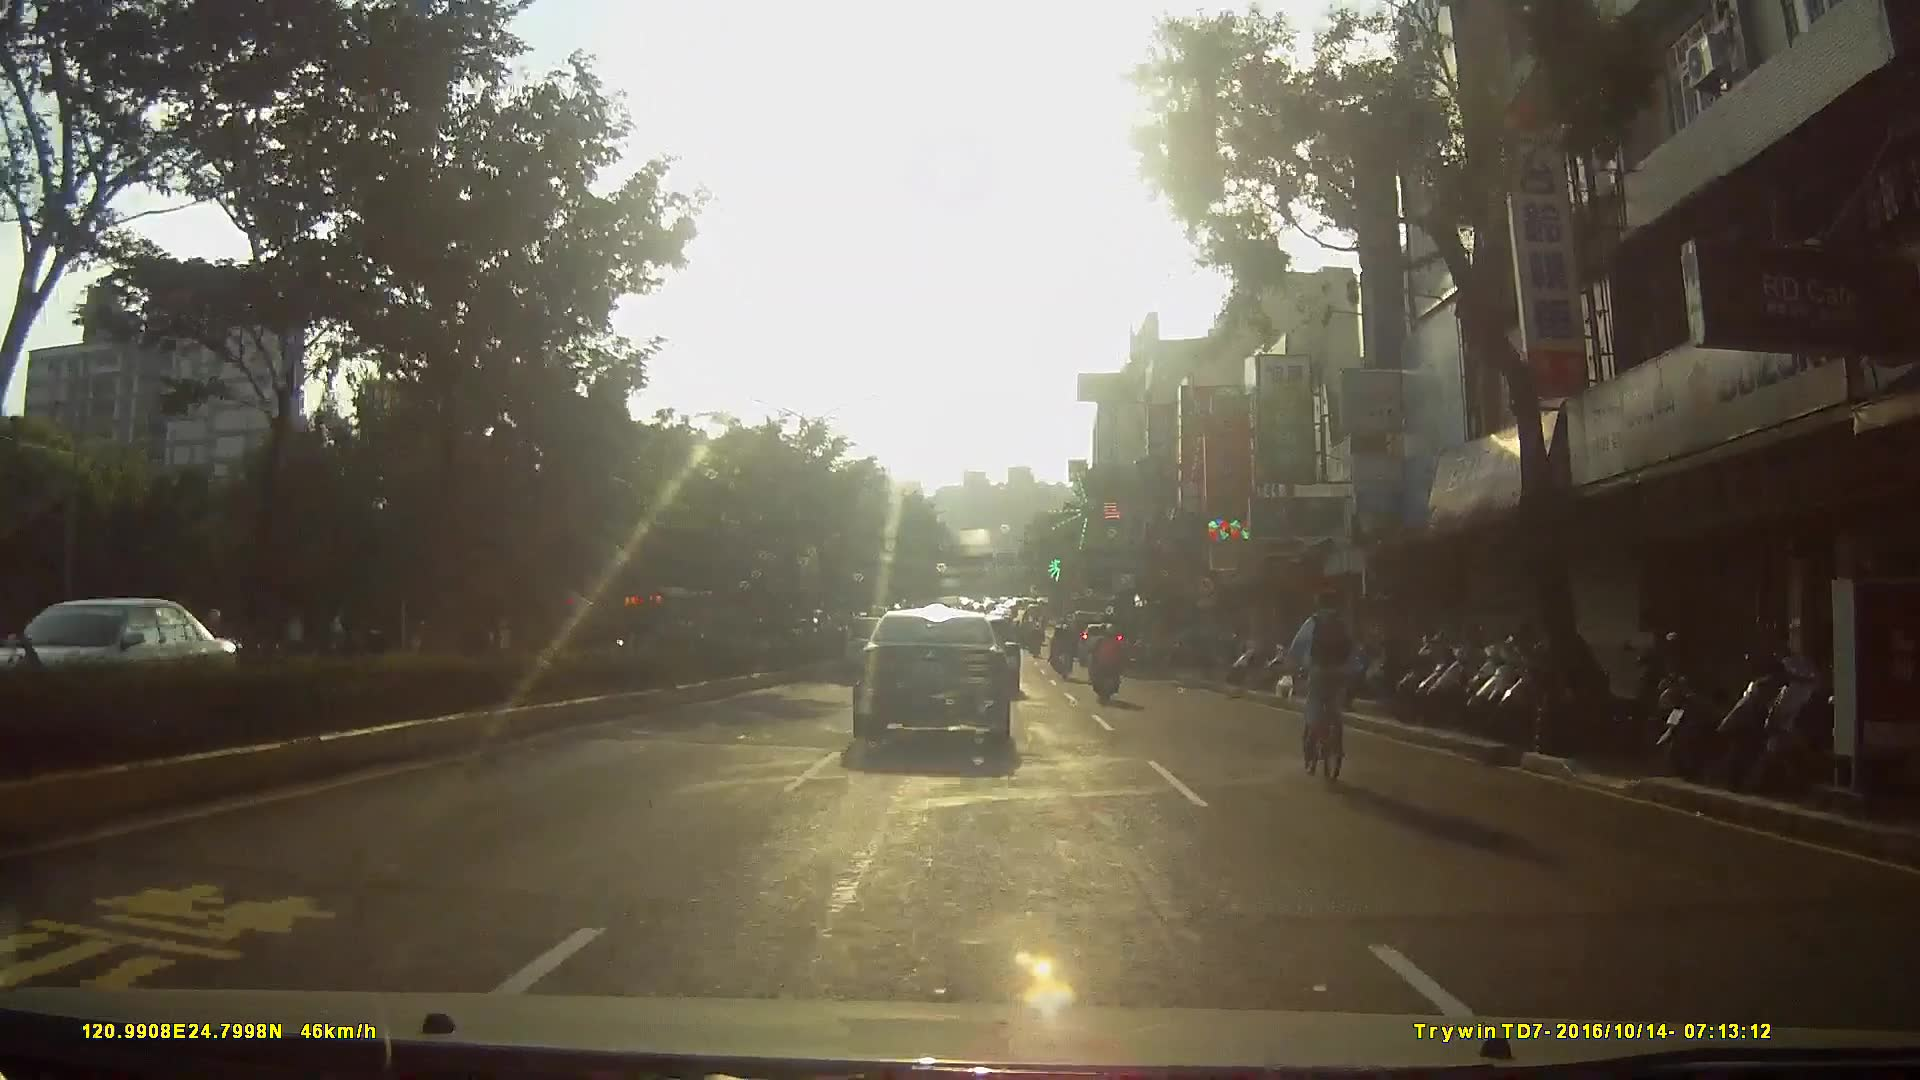rider: (1285, 585, 1367, 780), (1088, 624, 1123, 708), (1049, 622, 1077, 681)
vehicle: (853, 604, 1031, 767), (1, 598, 245, 704)
